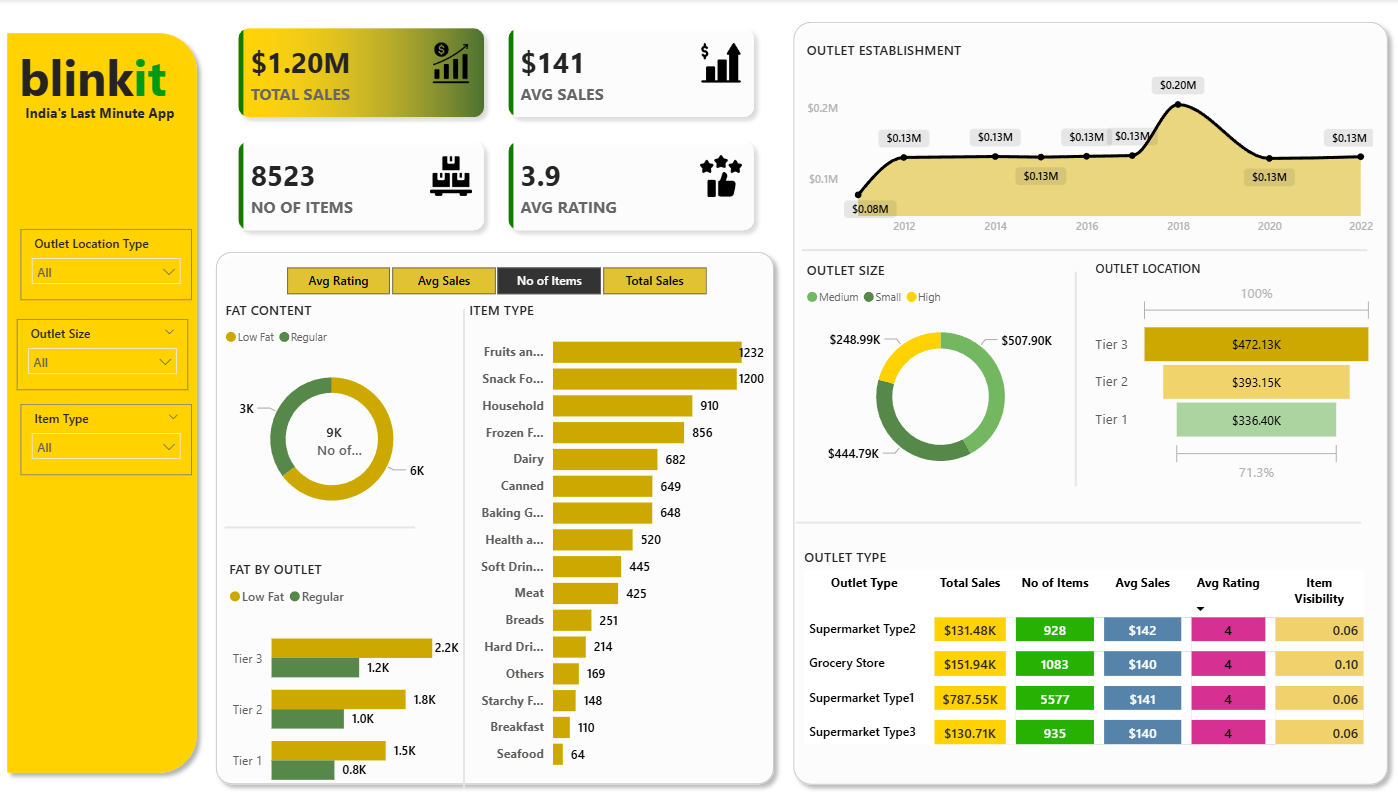

Layout of this report page (visuals, bound fields, positions):
{"tool":"powerbi","page":{"name":"Page 1","canvas":[1400,800],"ordinal":0},"visuals":[{"type":"shape","box":[0,24.3,205.7,750],"z":0},{"type":"textbox","box":[15.7,98.6,160,31.4],"z":1000},{"type":"textbox","box":[15.7,40,177.1,74.3],"z":2000},{"type":"textbox","box":[22.9,98.6,162.9,35.7],"z":3000},{"type":"cardVisual","fields":{"Data":["BlinkIT Grocery Data.Total Sales","BlinkIT Grocery Data.Average","BlinkIT Grocery Data.No of Items","BlinkIT Grocery Data.Avg Rating"]},"box":[208.6,0,568.8,258.1],"z":4000},{"type":"shape","box":[207.1,241.6,570.3,544.8],"z":5000},{"type":"donutChart","title":"FAT CONTENT","fields":{"Y":["BlinkIT Grocery Data.No of Items"],"Category":["BlinkIT Grocery Data.Item Fat Content"]},"box":[220.6,298.7,220.6,229.6],"z":6000},{"type":"slicer","fields":{"Values":["Metrix.Metrix"]},"box":[259.6,258.1,465.3,40.5],"z":7000},{"type":"cardVisual","fields":{"Data":["BlinkIT Grocery Data.No of Items"]},"box":[270.2,400.7,126.1,72],"z":8000},{"type":"clusteredBarChart","title":"FAT BY OUTLET","fields":{"Y":["BlinkIT Grocery Data.No of Items"],"Category":["BlinkIT Grocery Data.Outlet Location Type"],"Series":["BlinkIT Grocery Data.Item Fat Content"]},"box":[223.6,553.8,237.1,246.1],"z":9000},{"type":"shape","box":[223.6,514.8,189.1,16.5],"z":10000},{"type":"shape","box":[441.3,306.2,39,474.3],"z":11000},{"type":"barChart","title":"ITEM TYPE","fields":{"Y":["BlinkIT Grocery Data.No of Items"],"Category":["BlinkIT Grocery Data.Item Type"]},"box":[460.8,298.7,301.7,475.8],"z":12000},{"type":"shape","box":[777.4,13.5,606.3,772.9],"z":13000},{"type":"lineChart","title":"OUTLET ESTABLISHMENT","fields":{"Category":["BlinkIT Grocery Data.Outlet Establishment Year"],"Y":["BlinkIT Grocery Data.Total Sales"]},"box":[795.5,40.5,570.3,201.1],"z":14000},{"type":"shape","box":[795.5,238.6,559.8,19.5],"z":15000},{"type":"donutChart","title":"OUTLET SIZE","fields":{"Y":["BlinkIT Grocery Data.Total Sales"],"Category":["BlinkIT Grocery Data.Outlet Size"]},"box":[795.5,258.1,275,225],"z":16000},{"type":"shape","box":[1040.1,270.2,52.5,213.1],"z":17000},{"type":"funnel","title":"OUTLET LOCATION","fields":{"Y":["BlinkIT Grocery Data.Total Sales"],"Category":["BlinkIT Grocery Data.Outlet Location Type"]},"box":[1080.6,258.1,285.2,225.1],"z":18000},{"type":"shape","box":[789.5,508.8,559.8,19.5],"z":19000},{"type":"pivotTable","title":"OUTLET TYPE","fields":{"Rows":["BlinkIT Grocery Data.Outlet Type"],"Values":["BlinkIT Grocery Data.Total Sales","BlinkIT Grocery Data.No of Items","BlinkIT Grocery Data.Avg Sales","BlinkIT Grocery Data.Avg Rating","Avg(BlinkIT Grocery Data.Item Visibility)"]},"box":[792.5,543.3,576.3,222.1],"z":20000},{"type":"slicer","fields":{"Values":["BlinkIT Grocery Data.Outlet Location Type"]},"box":[22.5,228.1,169.6,70.5],"z":21000},{"type":"slicer","fields":{"Values":["BlinkIT Grocery Data.Outlet Size"]},"box":[18,316.7,169.6,70.5],"z":22000},{"type":"slicer","fields":{"Values":["BlinkIT Grocery Data.Item Type"]},"box":[22.5,400.7,169.6,70.5],"z":23000}]}

Visuals, with their boxes in screenshot pixels (x1, y1, x2, y2), scaled from the page's 1400x800 canvas onto the 1398x794 screenshot:
shape: (left=0, top=24, right=205, bottom=768)
textbox: (left=16, top=98, right=175, bottom=129)
textbox: (left=16, top=40, right=193, bottom=113)
textbox: (left=23, top=98, right=186, bottom=133)
cardVisual - BlinkIT Grocery Data.Total Sales x BlinkIT Grocery Data.Average: (left=208, top=0, right=776, bottom=256)
shape: (left=207, top=240, right=776, bottom=781)
"FAT CONTENT" donutChart: (left=220, top=296, right=441, bottom=524)
slicer - Metrix.Metrix: (left=259, top=256, right=724, bottom=296)
cardVisual - BlinkIT Grocery Data.No of Items: (left=270, top=398, right=396, bottom=469)
"FAT BY OUTLET" clusteredBarChart: (left=223, top=550, right=460, bottom=793)
shape: (left=223, top=511, right=412, bottom=527)
shape: (left=441, top=304, right=480, bottom=775)
"ITEM TYPE" barChart: (left=460, top=296, right=761, bottom=769)
shape: (left=776, top=13, right=1382, bottom=781)
"OUTLET ESTABLISHMENT" lineChart: (left=794, top=40, right=1364, bottom=240)
shape: (left=794, top=237, right=1353, bottom=256)
"OUTLET SIZE" donutChart: (left=794, top=256, right=1069, bottom=479)
shape: (left=1039, top=268, right=1091, bottom=480)
"OUTLET LOCATION" funnel: (left=1079, top=256, right=1364, bottom=480)
shape: (left=788, top=505, right=1347, bottom=524)
"OUTLET TYPE" pivotTable: (left=791, top=539, right=1367, bottom=760)
slicer - BlinkIT Grocery Data.Outlet Location Type: (left=22, top=226, right=192, bottom=296)
slicer - BlinkIT Grocery Data.Outlet Size: (left=18, top=314, right=187, bottom=384)
slicer - BlinkIT Grocery Data.Item Type: (left=22, top=398, right=192, bottom=468)
